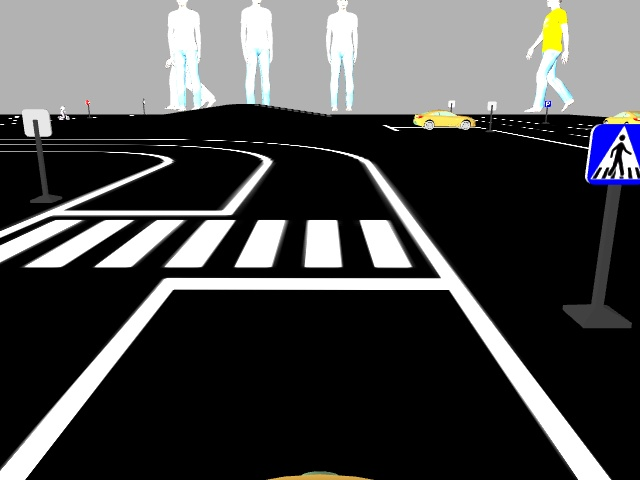Crosswalk: (586, 122, 639, 186)
